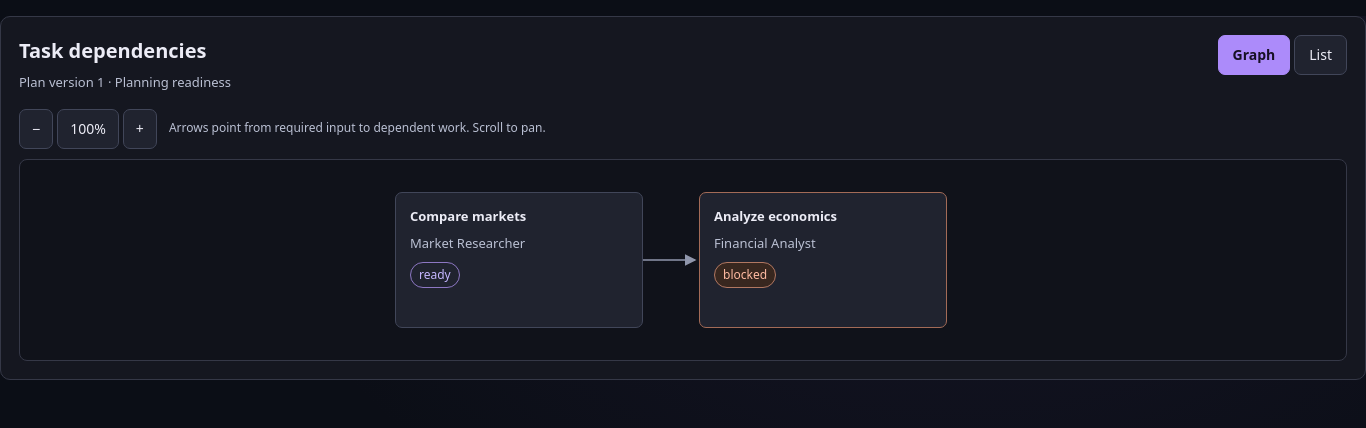
it: graph and list selection plus zoom have keyboard accessible names
Click the button "List".
click(1321, 55)  # box [1294, 35, 1347, 75]
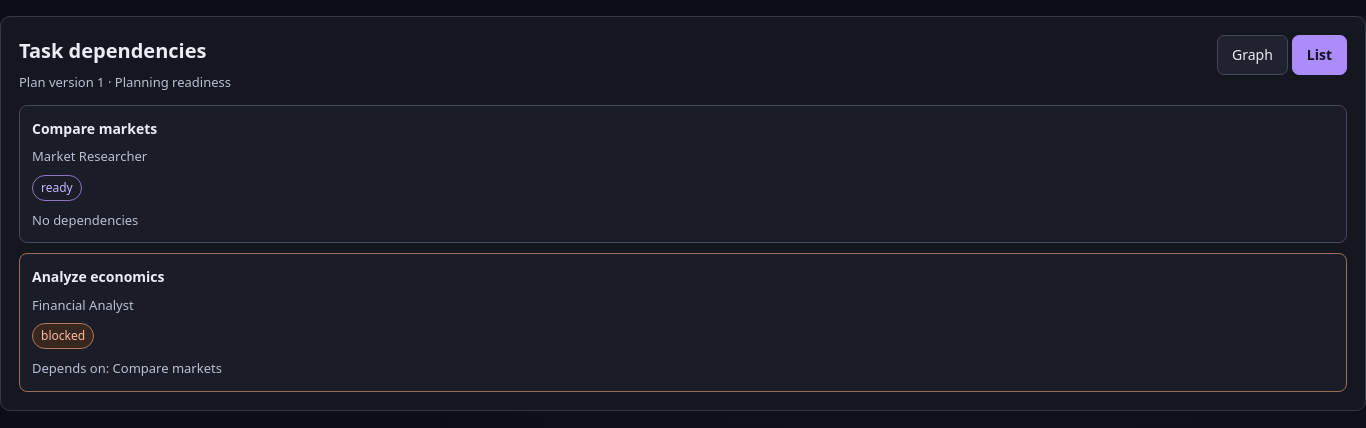
Expected: the button "List" is pressed, [1292, 35, 1347, 75]
Click the button "Graph".
click(1252, 55)  # box [1217, 35, 1288, 75]
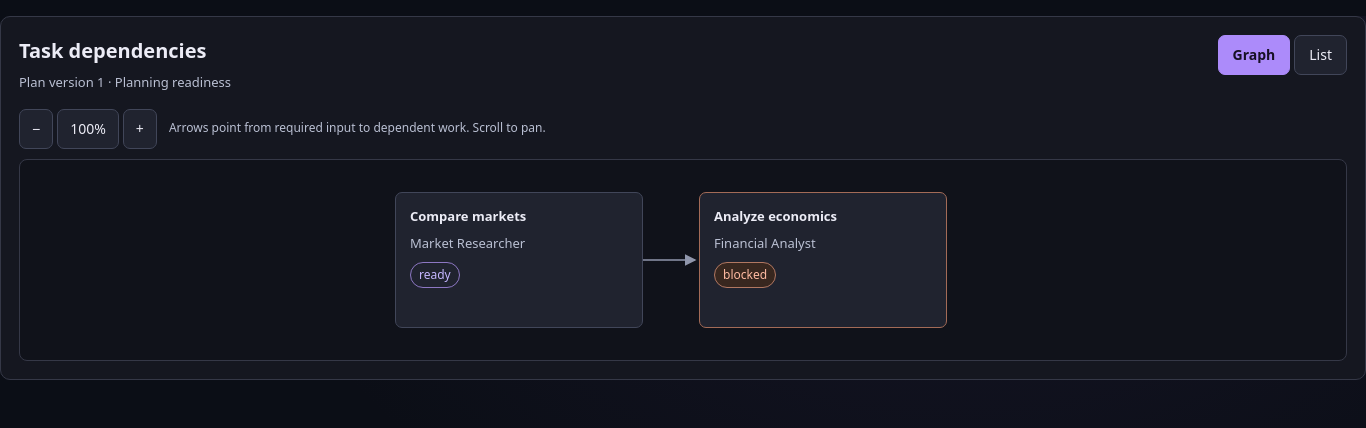
Click the button named "Zoom in dependencies".
click(140, 128)  # box [123, 108, 157, 148]
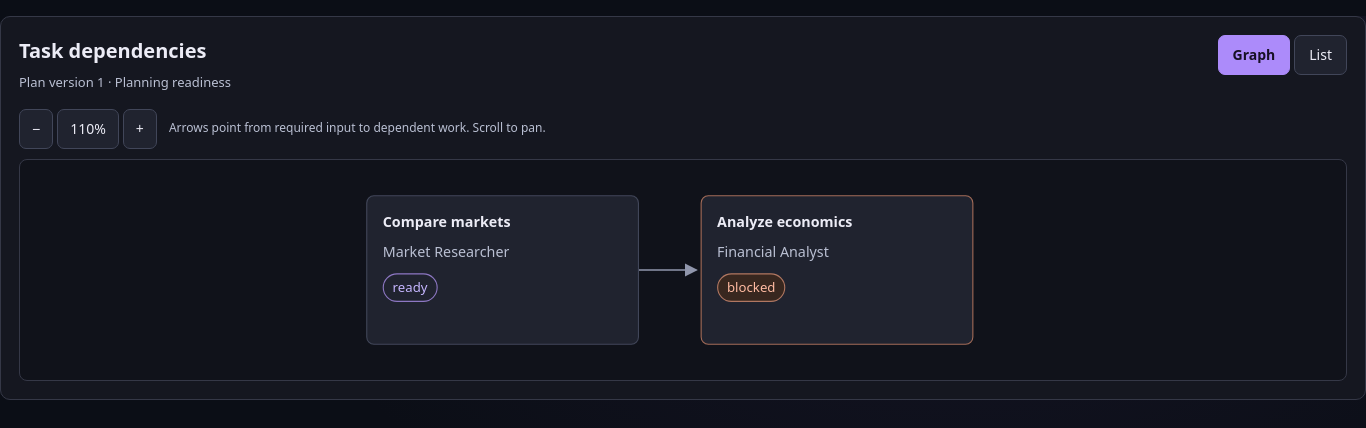
Expected: the button named "Reset dependency zoom" reads "110%"
Click the button named "Reset dependency zoom".
click(88, 128)  # box [57, 108, 119, 148]
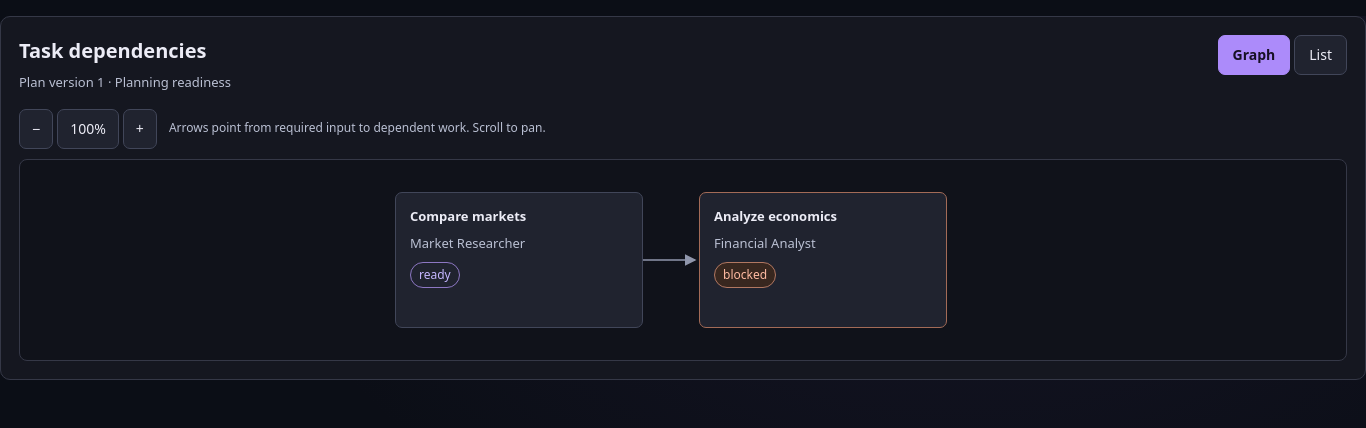
Expected: the button named "Reset dependency zoom" reads "100%", [57, 108, 119, 148]
